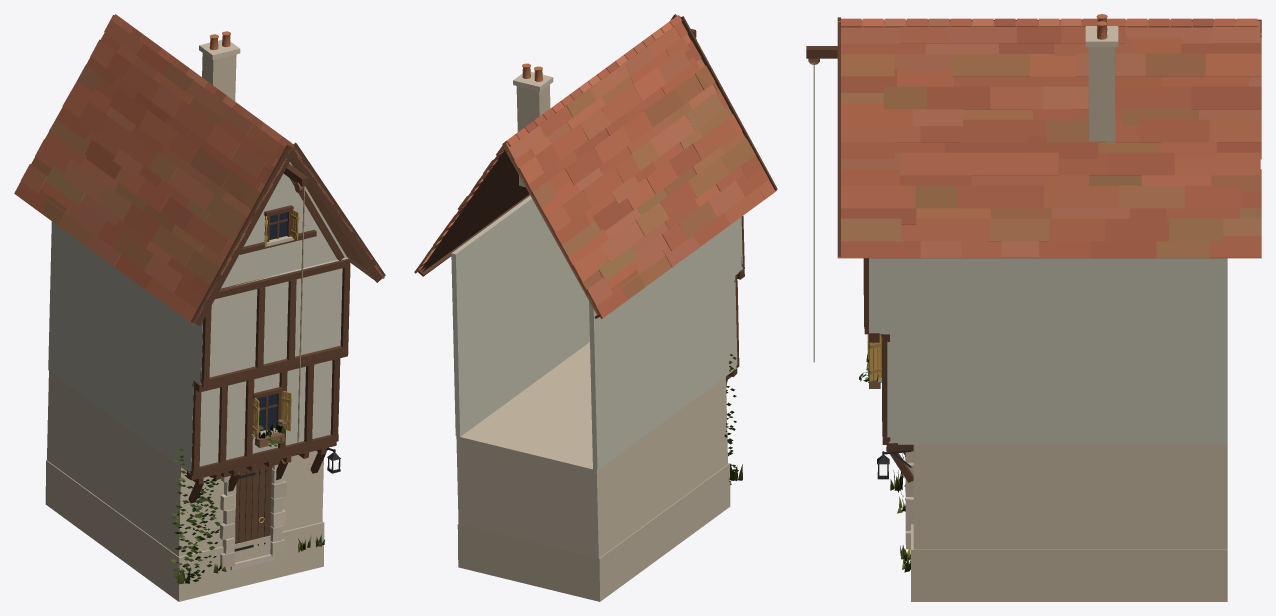
File: casa_pasajes.glb
3 renders of one model, left to right at view 1: azimuth 30°, elevation 25°; view 2: azimuth 150°, elevation 25°; view 3: azimuth 270°, elevation 25°, orthographic. The views are drawn at different scales.
Visible parts, largest first — view 1: casa_pasajes_fijo, casa_pasajes_vegetacion; view 2: casa_pasajes_fijo; view 3: casa_pasajes_fijo, casa_pasajes_vegetacion.
Boxes of the visible parts, x1,y1,x2,y2 form: casa_pasajes_fijo: (14, 14, 385, 601); casa_pasajes_vegetacion: (171, 419, 324, 584); casa_pasajes_fijo: (414, 14, 777, 601); casa_pasajes_fijo: (806, 14, 1261, 601); casa_pasajes_vegetacion: (859, 354, 910, 572).
Size of the model in its own units: 5.08 by 11.99 by 8.7.
